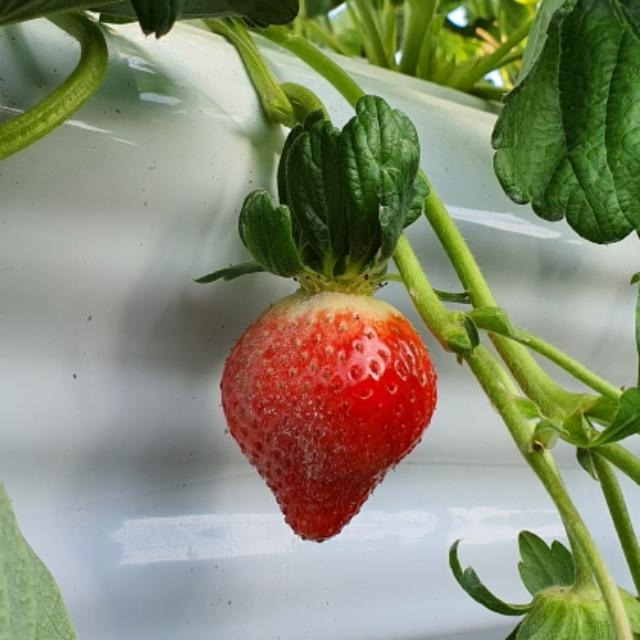Powdery Mildew Fruit: (217, 292, 348, 510)
